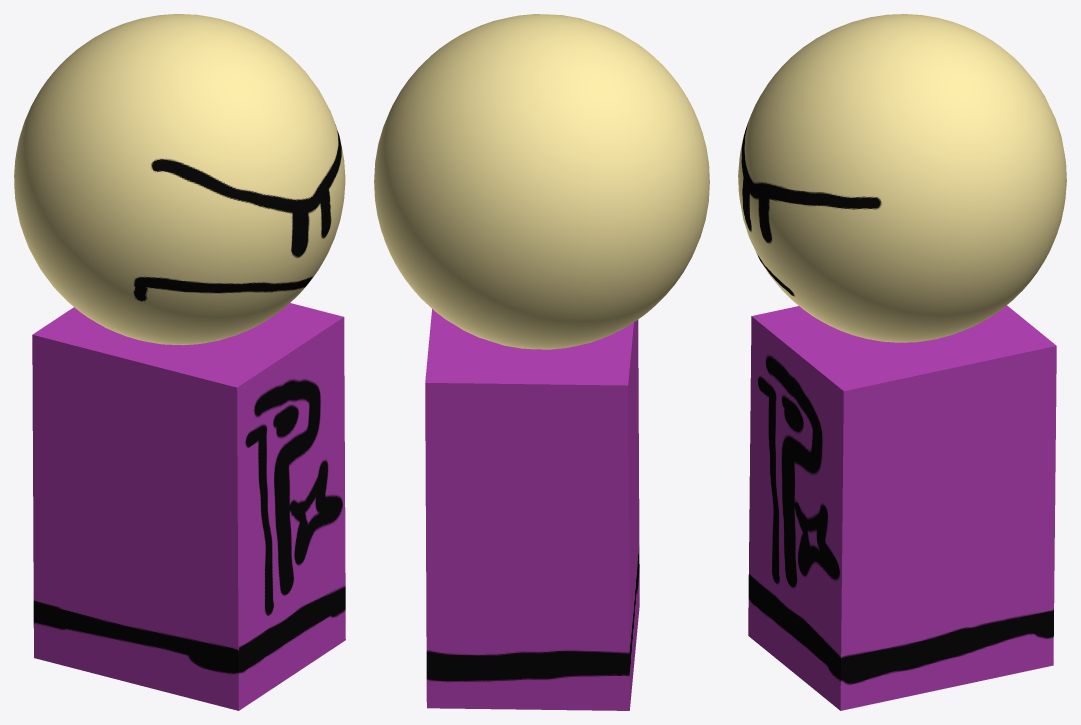
The model's file is Purpleguy.glb.
3 views of the same model, side by side, from view 1: azimuth 30°, elevation 25°; view 2: azimuth 150°, elevation 25°; view 3: azimuth 270°, elevation 25° (orthographic). The views are drawn at different scales.
Parts seen in each view (by area): view 1: mesh_id27, mesh_id35; view 2: mesh_id35, mesh_id27; view 3: mesh_id27, mesh_id35.
Part boxes in pixels (x1,y1,x2,y2): mesh_id27: [32, 303, 345, 710]; mesh_id35: [14, 14, 345, 345]; mesh_id35: [374, 14, 709, 349]; mesh_id27: [425, 309, 639, 710]; mesh_id27: [748, 305, 1056, 710]; mesh_id35: [738, 14, 1066, 342].
Bounding box in the file's own units: 0.2 × 0.4146 × 0.2.
2 materials, 2 textured.
